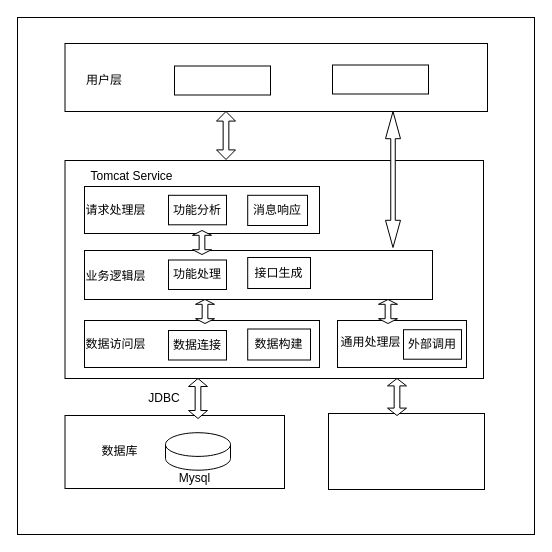
This 552x552 diagram has some shape labels left out. The shapes that lost their labels are listed below. From the top down, each one's centre as x and y in pixels, then its label:
At [222,80]: "农资显示".
At [380,79]: "农资信息接口".
At [406,451]: "外部接口或第三方平台".
